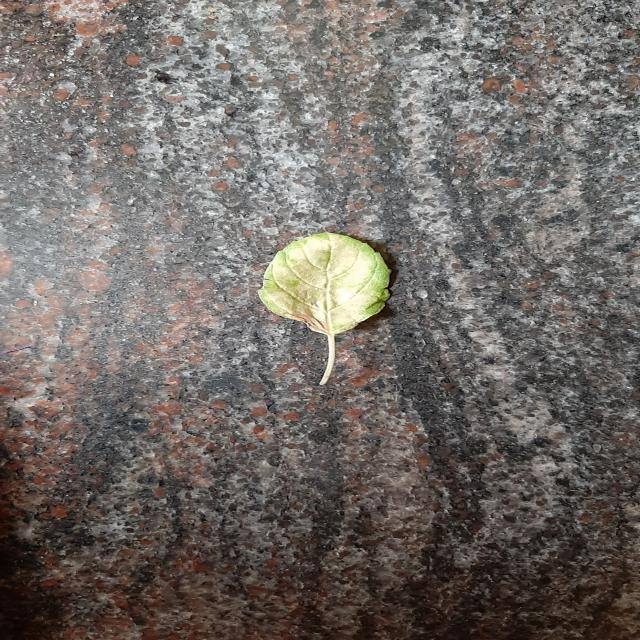disease in leaf: (257, 232, 390, 335)
tulsi: (257, 232, 390, 385)
